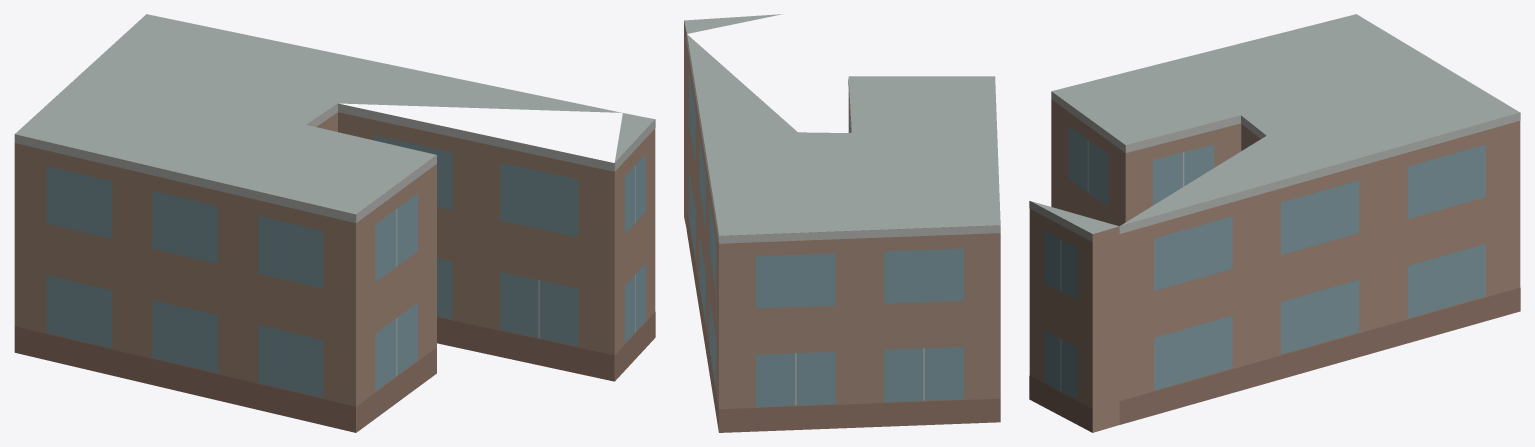
File: survey-upis-32765193.glb
3 renders of one model, left to right at view 1: azimuth 30°, elevation 25°; view 2: azimuth 150°, elevation 25°; view 3: azimuth 270°, elevation 25°, orthographic. The views are drawn at different scales.
Parts seen in each view (by area): view 1: survey-upis-32765193.tmp; view 2: survey-upis-32765193.tmp; view 3: survey-upis-32765193.tmp.
Part boxes in pixels (bbox=[...]): survey-upis-32765193.tmp: bbox=[14, 14, 655, 432]; survey-upis-32765193.tmp: bbox=[684, 14, 1000, 432]; survey-upis-32765193.tmp: bbox=[1029, 14, 1520, 432].
Size of the model in its own units: 14.5 by 6.1 by 13.67.
